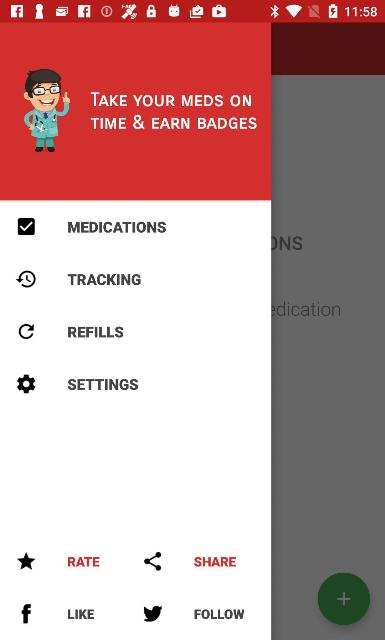Drawer: (1, 22, 272, 640)
Icon: (16, 374, 36, 394), (16, 270, 36, 288), (16, 552, 36, 570), (144, 552, 162, 570), (144, 604, 162, 622), (17, 218, 34, 235), (18, 323, 34, 339), (21, 603, 31, 623)
Image: (24, 69, 70, 153)
ImageButton: (318, 572, 370, 626)
List: (0, 201, 270, 413)
Text: (90, 114, 258, 130), (90, 92, 251, 108), (68, 222, 166, 232), (67, 274, 140, 286), (68, 378, 138, 389), (68, 327, 124, 338), (194, 609, 244, 619), (194, 557, 236, 567), (68, 556, 100, 566), (68, 609, 94, 619)
UpperTaskBar: (0, 0, 384, 22)
